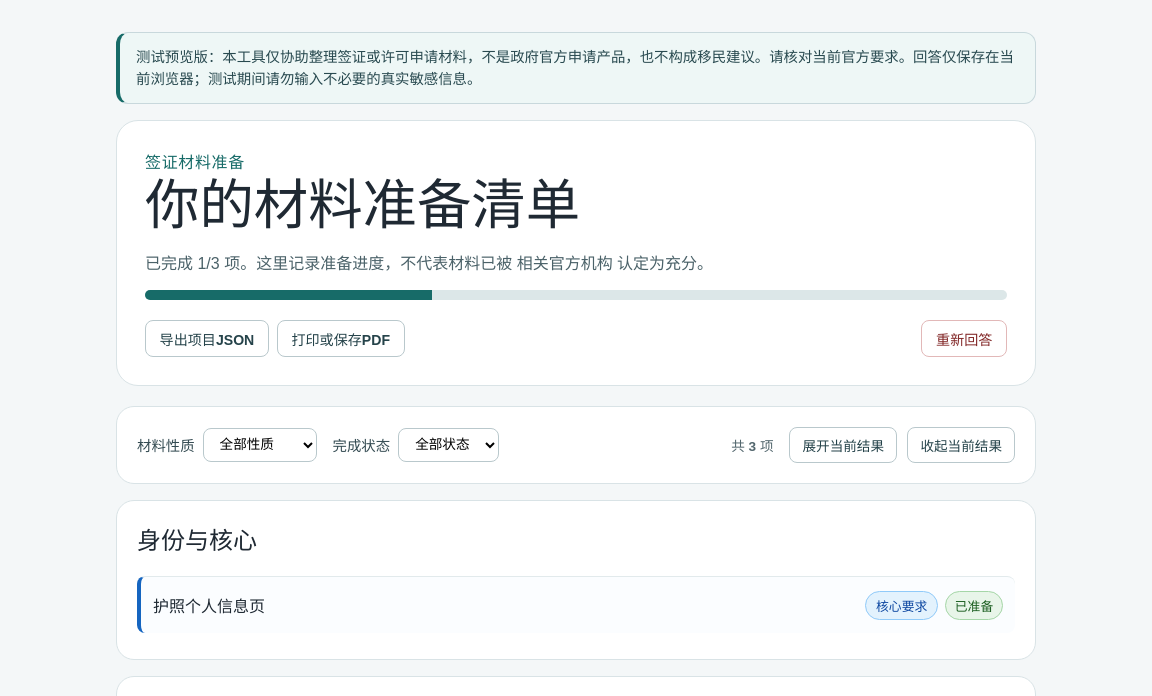
Scenario: ChecklistView guidance rendering › Checklist filtering and expand/collapse controls › filters by requirement and status, showing empty state and clearing filters
Select "建议核对" in the dropdown labelled "材料性质". click: (260, 445)
box: [203,428,317,462]
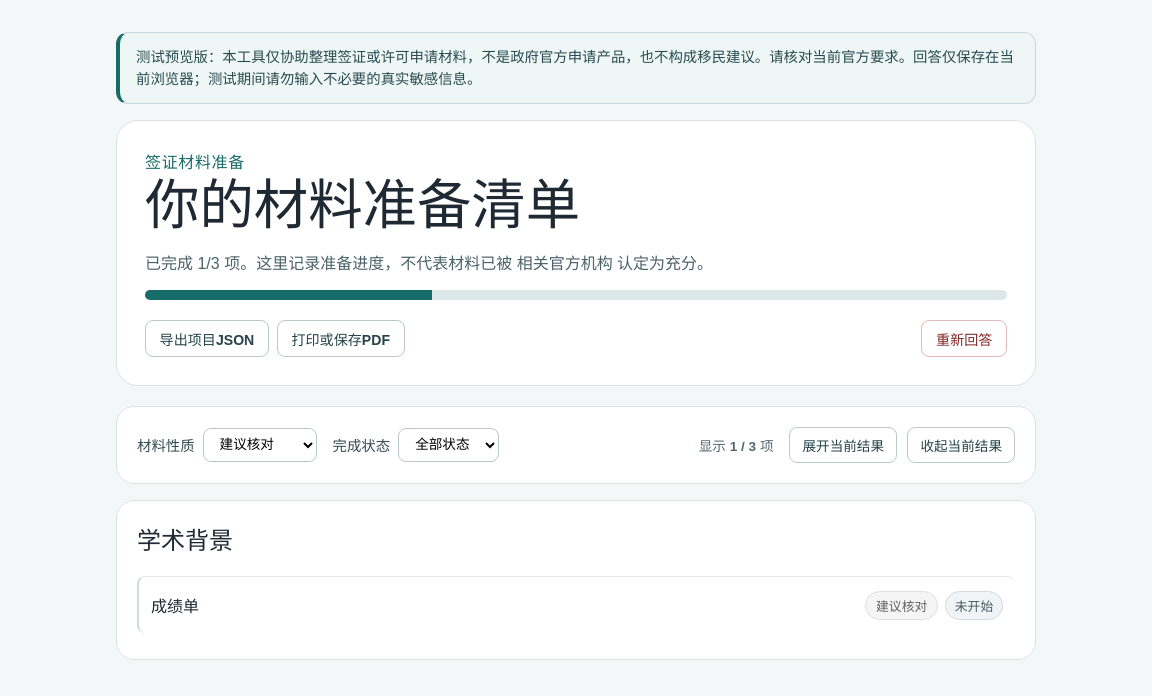
Select "已准备" in the dropdown labelled "完成状态". click: (449, 445)
box: [398,428,499,462]
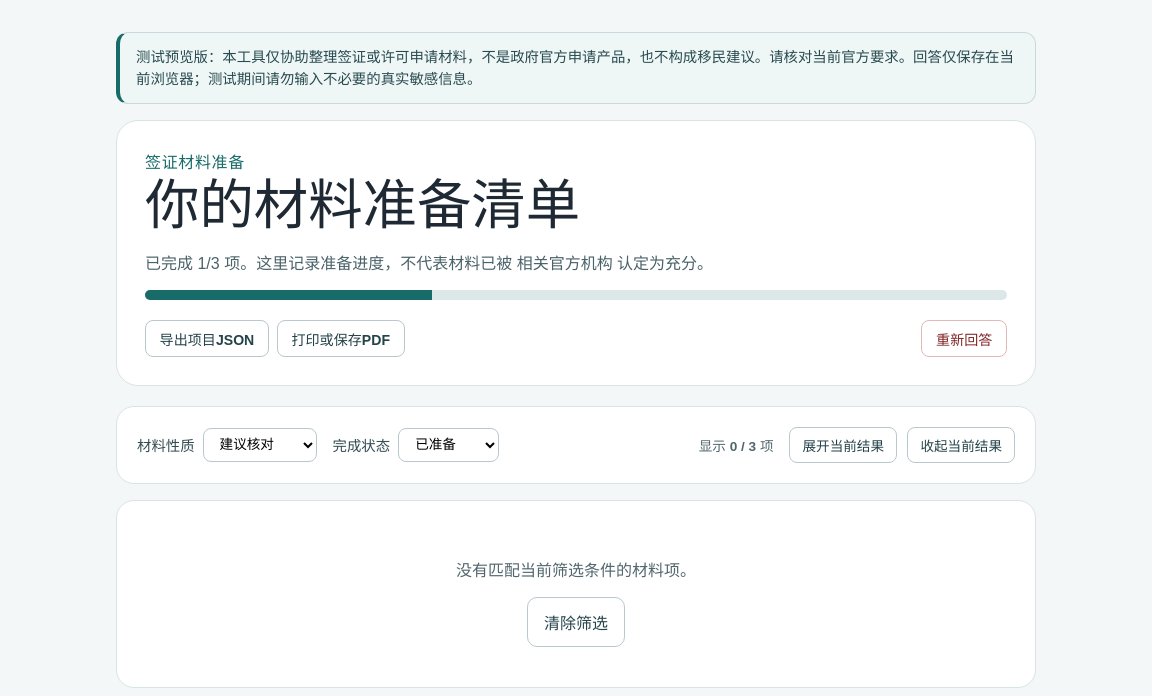
Expected: the text "已完成 1/3 项。这里记录准备进度，不代表材料已被 相关官方机构 认定为充分。" is shown, [145,255,713,272]
Now the text "没有匹配当前筛选条件的材料项。" is shown, box [456,562,696,579]
Now the text "显示 0 / 3 项" is shown, box [699,435,774,455]
Click the button "清除筛选". click: click(576, 622)
box: [527,597,625,647]
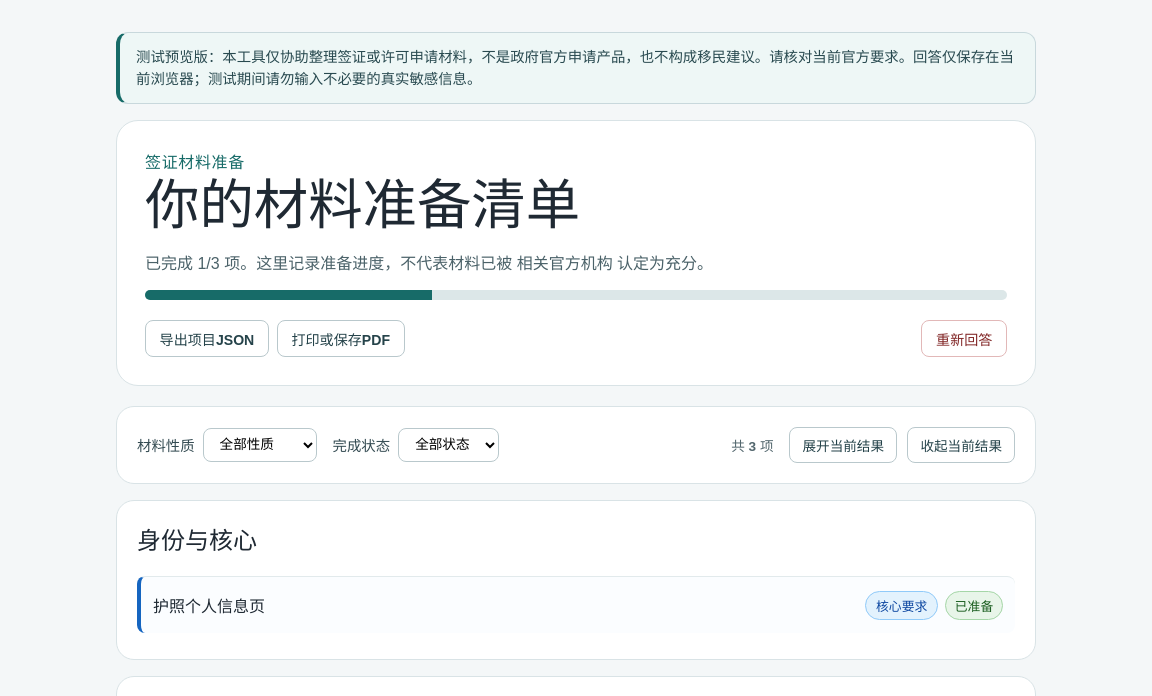
Now the text "共 3 项" is shown, box [731,435,774,455]
Now the text "护照个人信息页" is shown, box [153,598,265,615]
